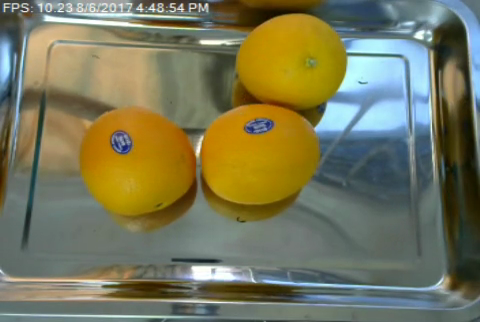Orange: (78, 105, 195, 216), (200, 103, 320, 205), (235, 14, 349, 107)
